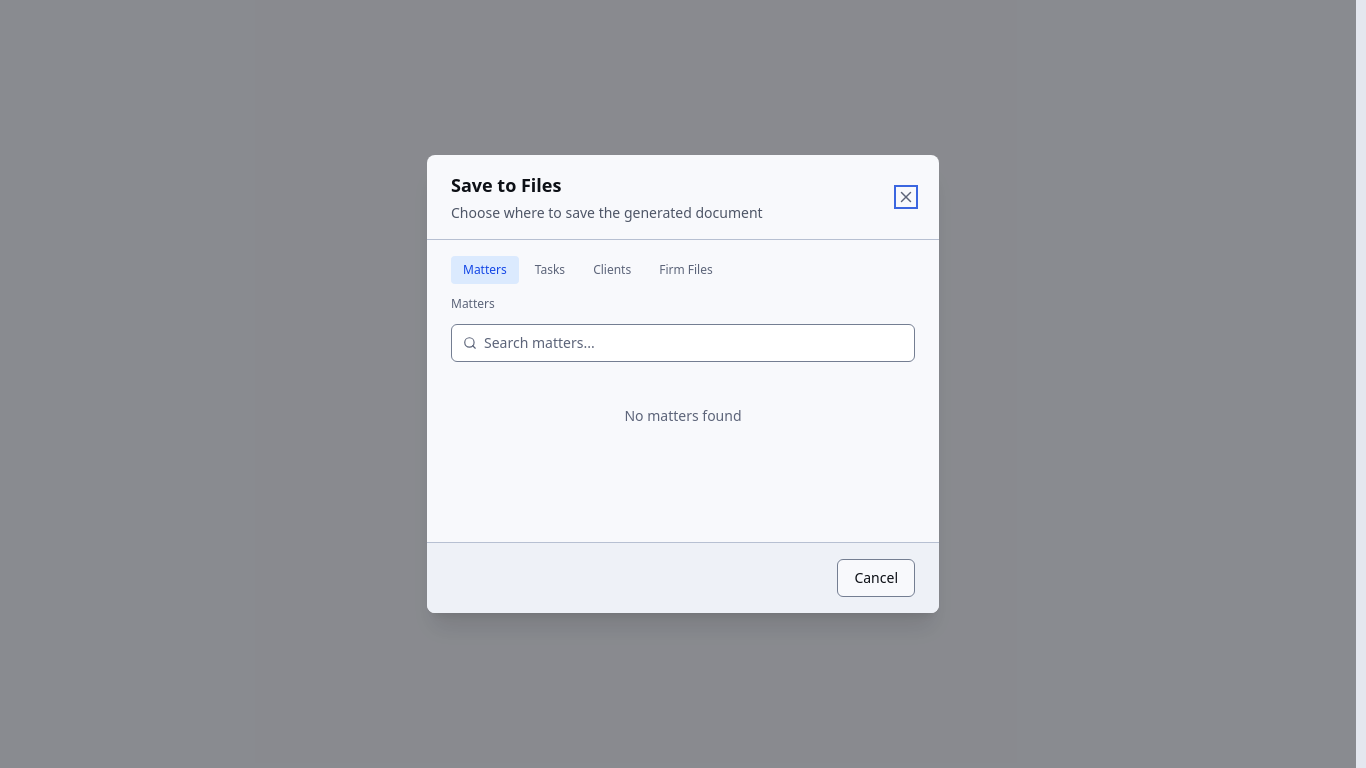
Test: opens a folder by its id
Click the button "Firm Files" at (686,270), box [647, 256, 725, 284]
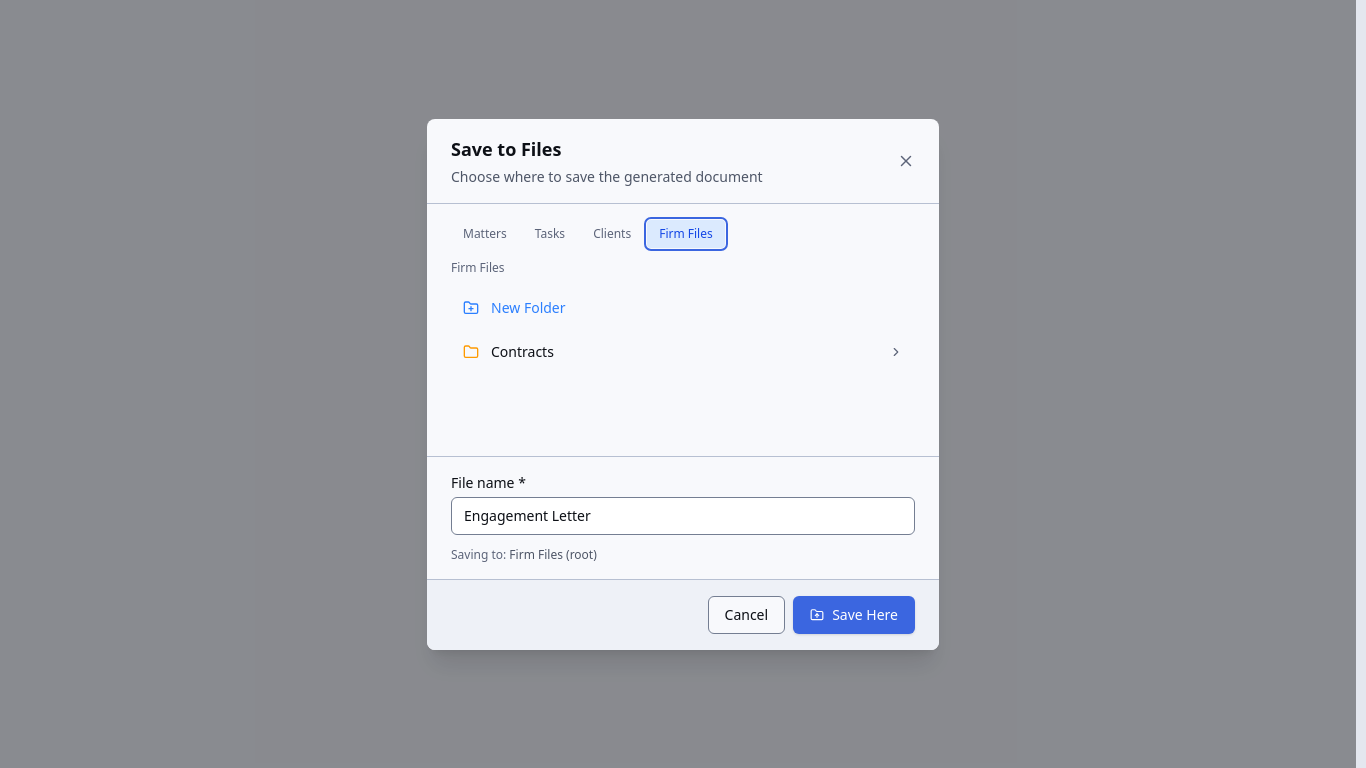
Click the button "Contracts" at (522,351), box [451, 332, 915, 372]
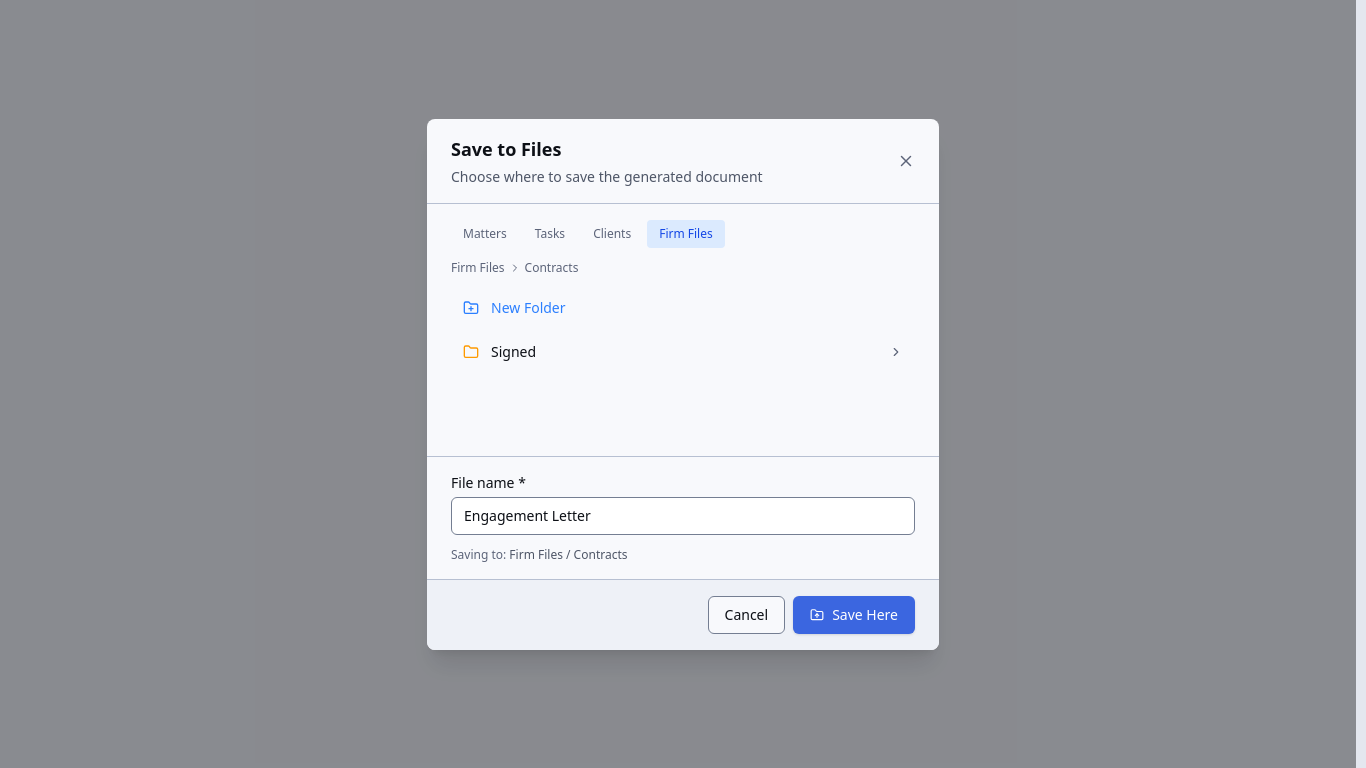
Result: the button "Signed" is shown at [451, 332, 915, 372]
